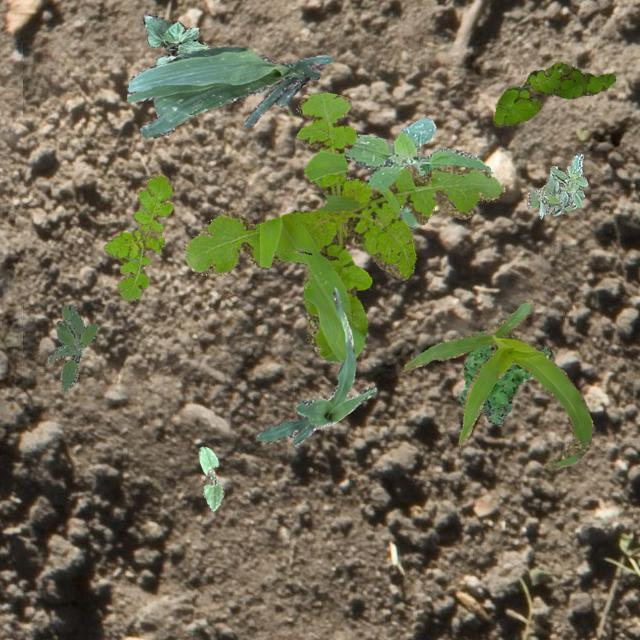crop: (402, 298, 592, 468), (256, 286, 376, 444), (126, 46, 332, 138), (142, 14, 208, 64), (198, 446, 222, 510)
weed: (184, 92, 503, 360), (342, 118, 492, 228), (102, 172, 172, 300), (492, 61, 614, 126), (460, 344, 552, 426), (46, 304, 96, 392), (526, 152, 586, 215)
